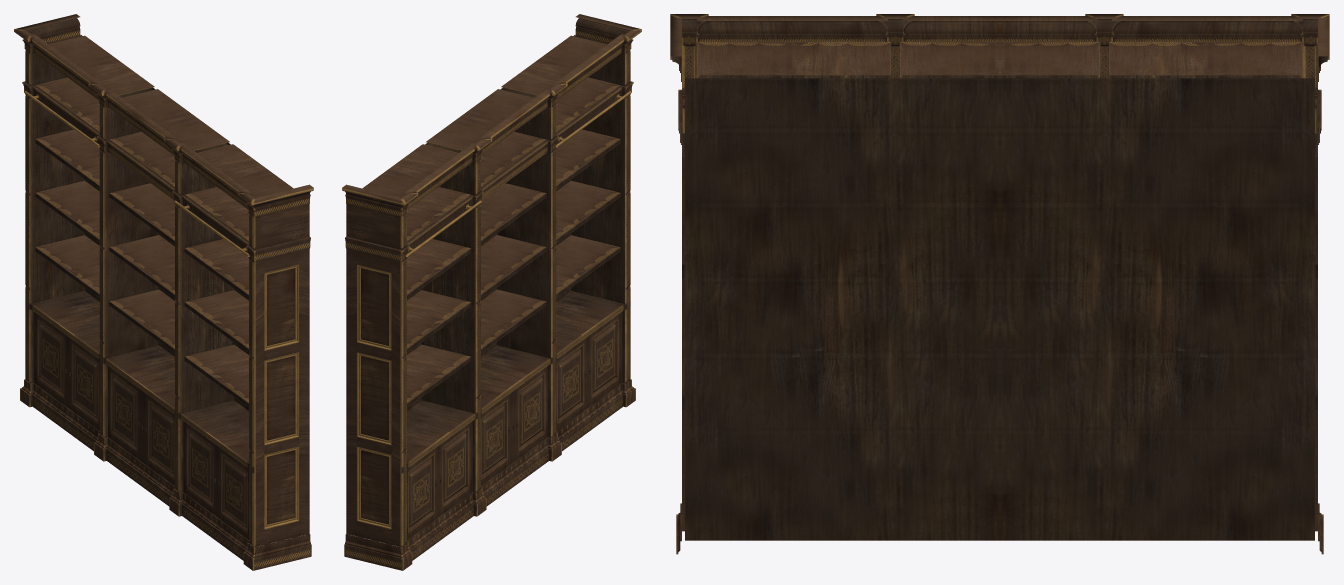
File: SM_Bookshelf_BIG.fbx
3 renders of one model, left to right at view 1: azimuth 30°, elevation 25°; view 2: azimuth 150°, elevation 25°; view 3: azimuth 270°, elevation 25°, orthographic. The views are drawn at different scales.
Visible parts, largest first — view 1: SM_Bookshelf_BIG_LOD0; view 2: SM_Bookshelf_BIG_LOD0; view 3: SM_Bookshelf_BIG_LOD0.
Boxes of the visible parts, left/top/right/bottom form: SM_Bookshelf_BIG_LOD0: left=14, top=14, right=313, bottom=570; SM_Bookshelf_BIG_LOD0: left=342, top=14, right=641, bottom=570; SM_Bookshelf_BIG_LOD0: left=670, top=14, right=1329, bottom=554.
Size of the model in its own units: 66.04 by 435 by 375.
Materials: 1 (1 with a texture image).
